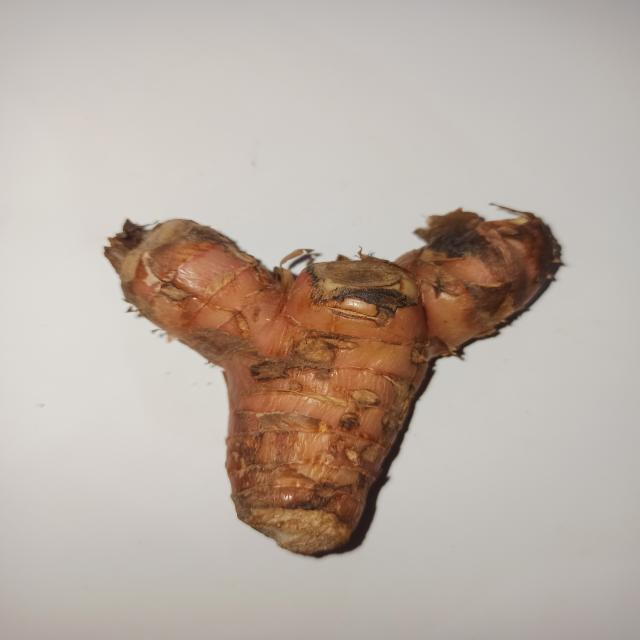ginger: (116, 194, 542, 539)
